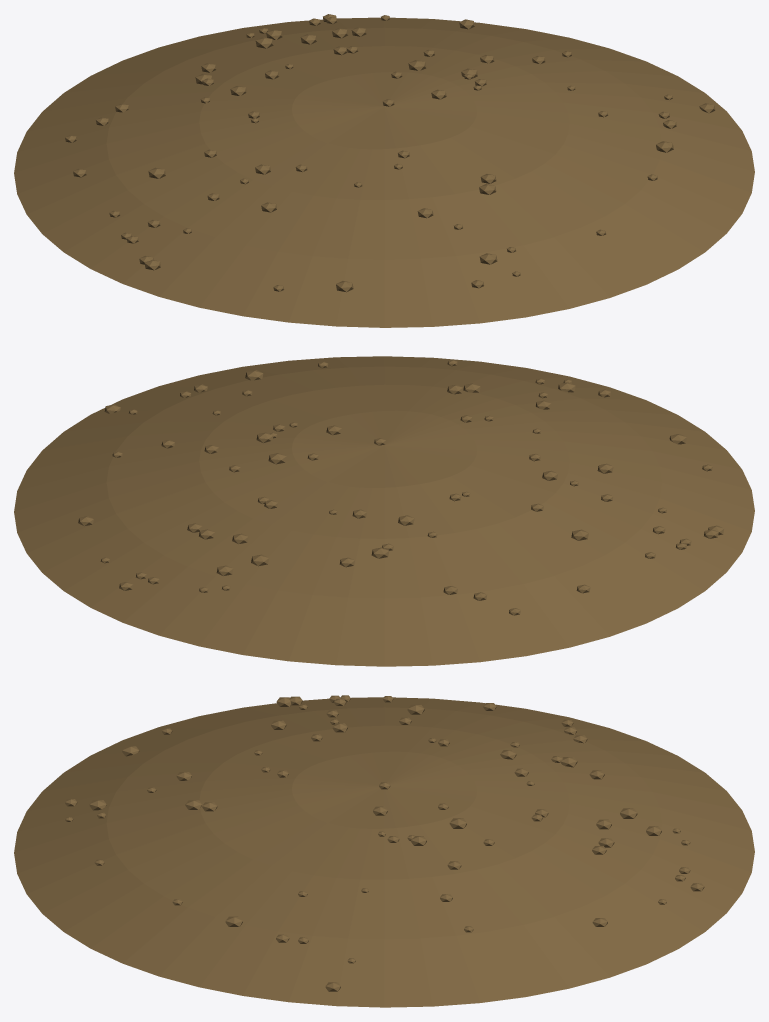
The model's file is GoldFxSediment.glb.
3 renders of one model, top to bottom at view 1: azimuth 30°, elevation 25°; view 2: azimuth 150°, elevation 25°; view 3: azimuth 270°, elevation 25°, orthographic.
Visible parts, largest first — view 1: GoldFxSediment.002; view 2: GoldFxSediment.002; view 3: GoldFxSediment.002.
Part boxes in pixels (box(x1,y1,x2,y2)): GoldFxSediment.002: box(14, 14, 754, 327); GoldFxSediment.002: box(14, 356, 754, 666); GoldFxSediment.002: box(14, 695, 754, 1007).
Size of the model in its own units: 0.274 by 0.0298 by 0.274.
